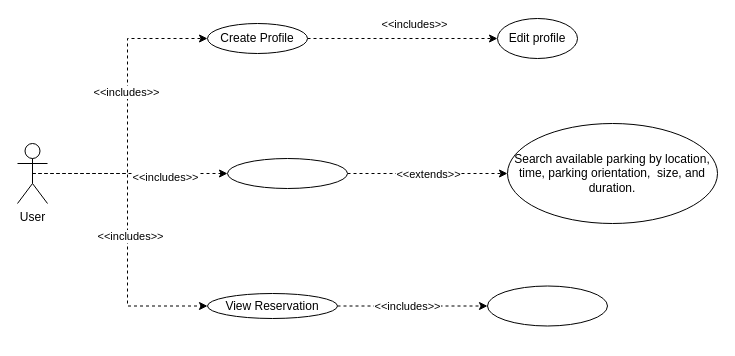
This 735x356 diagram has some shape labels left out. Each missing label, with the box of its shape:
Cancel Reservation: (486, 285, 608, 326)
Reserve Parking: (226, 158, 348, 188)
